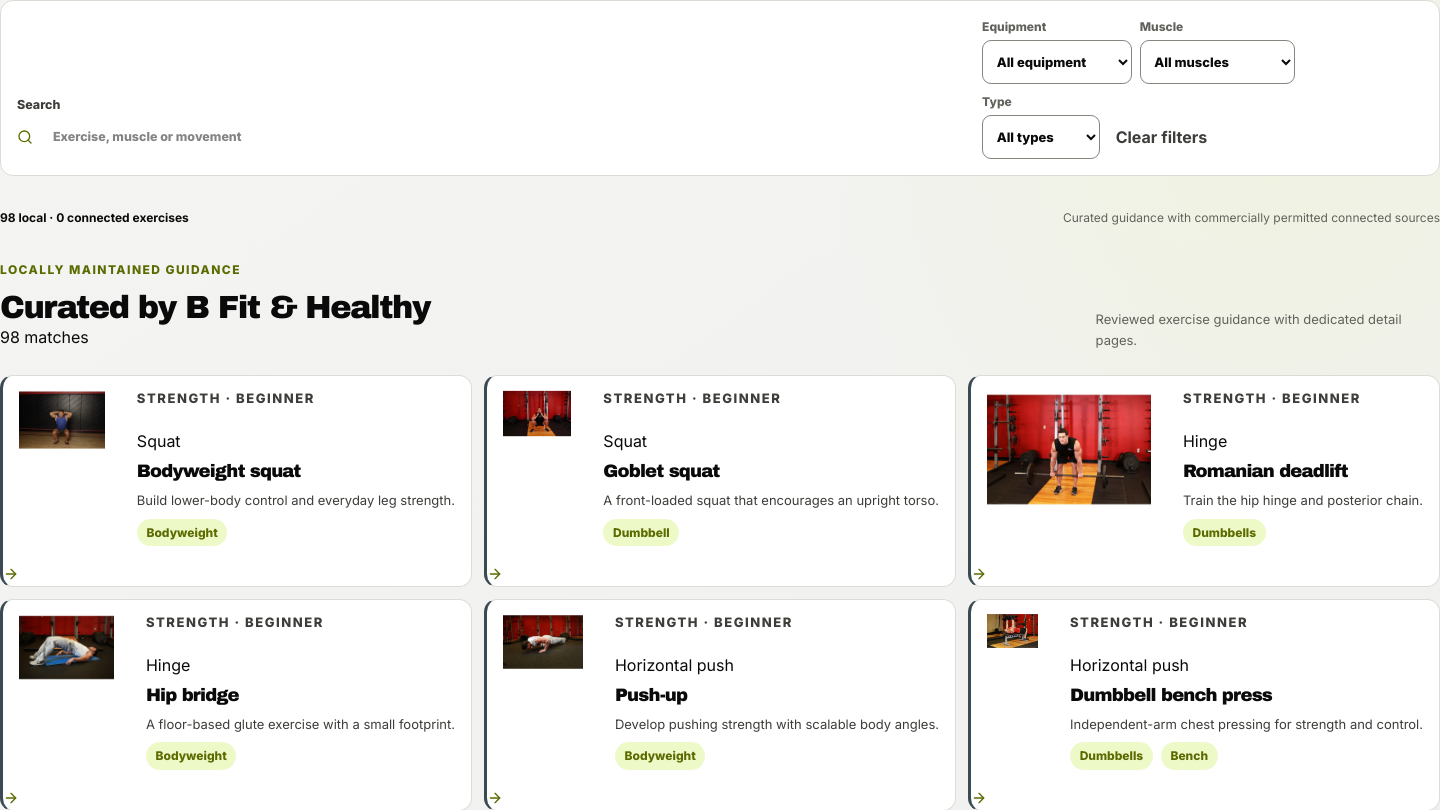
Test: ExerciseLibrary › searches, filters, clears, and explains empty results
The image size is (1440, 810).
Type "squat" into the search field at (506, 137), box top-left (41, 115), bottom-right (970, 159)
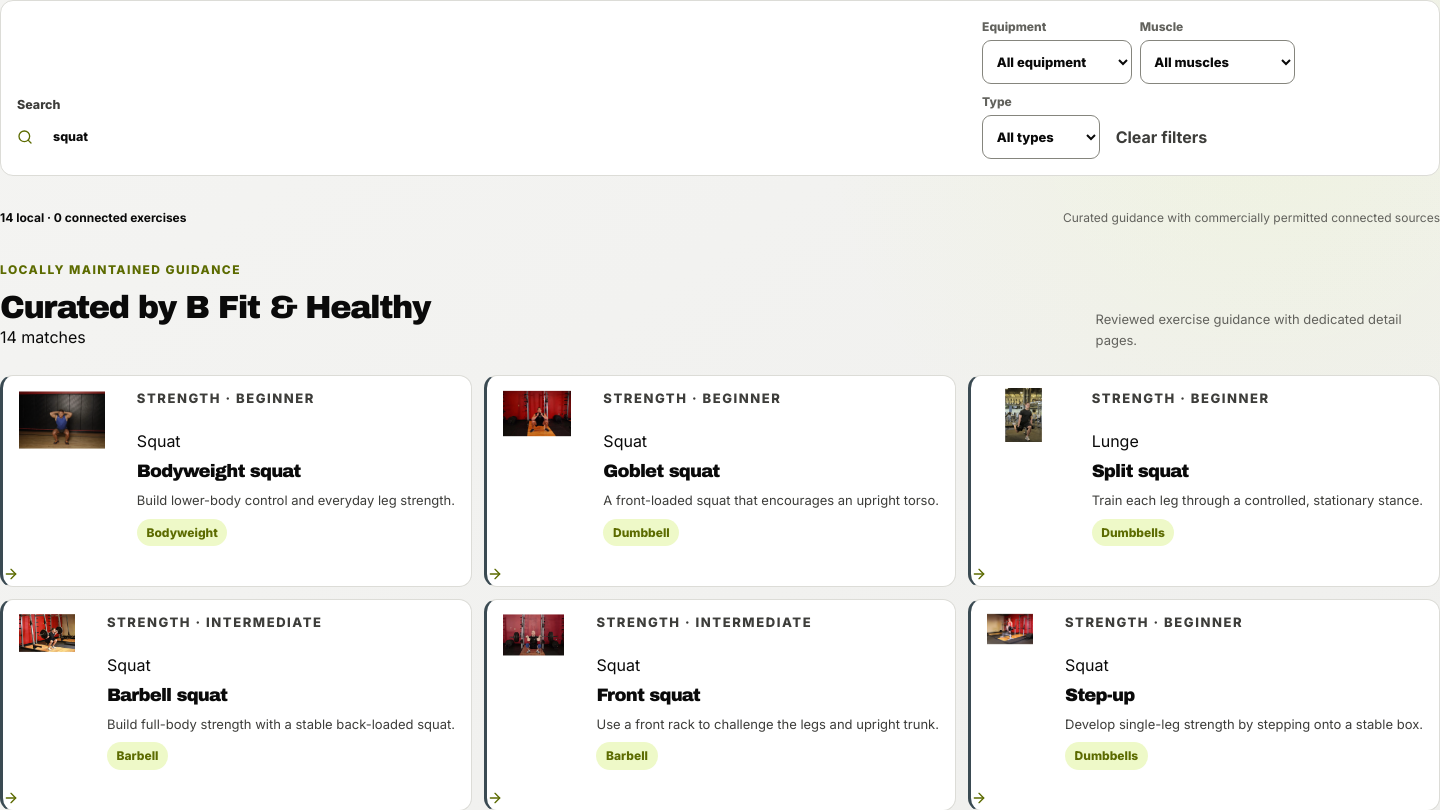
Expected: the heading "Bodyweight squat" is shown, top-left (137, 461), bottom-right (300, 481)
Expected: the link "Push-up" is gone
Select "Cable" in the dropdown labelled "Equipment" at (1057, 62), box top-left (982, 40), bottom-right (1132, 84)
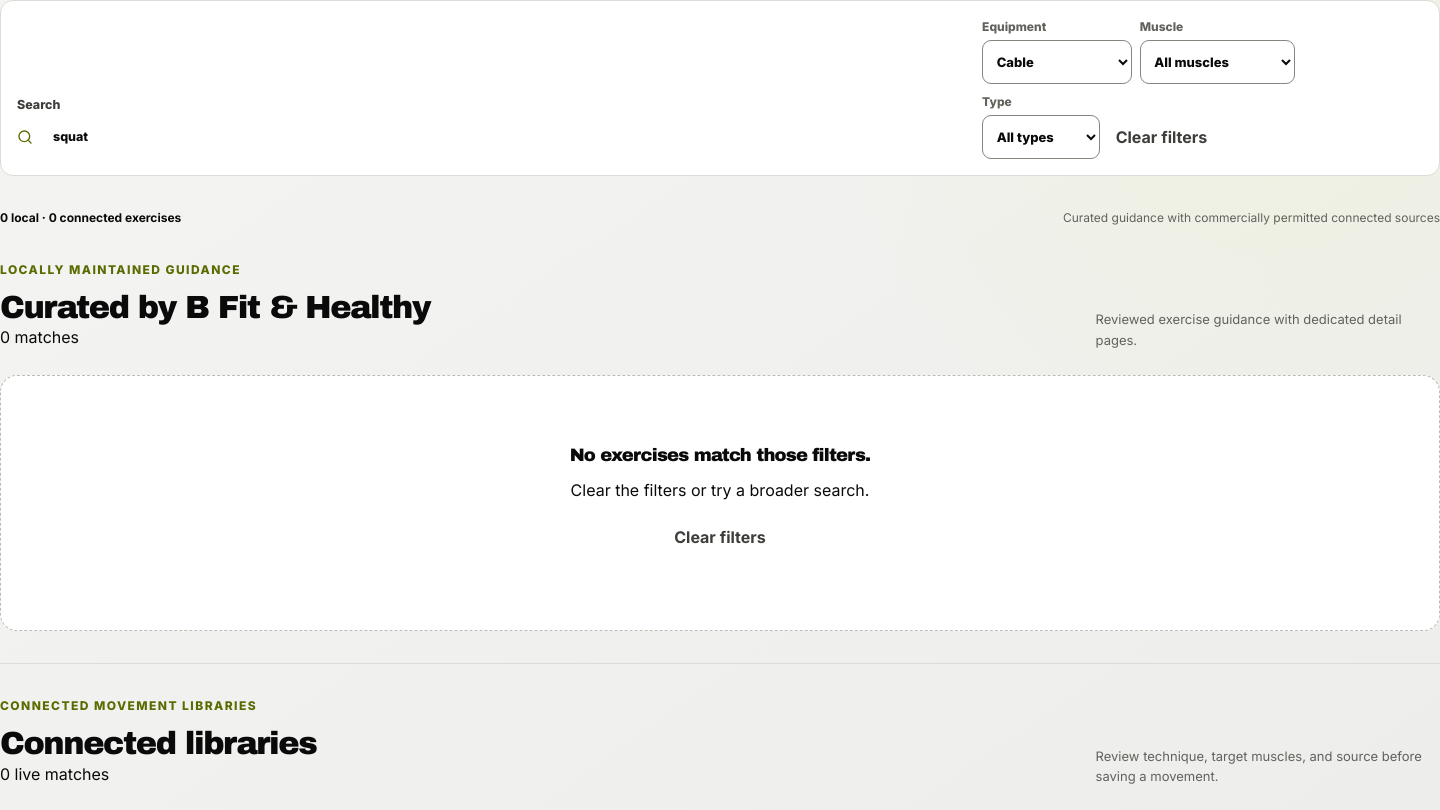
Expected: the heading "No exercises match those filters." is shown, top-left (570, 446), bottom-right (870, 466)
Click the button "Clear filters" below "Type" at (1162, 137), box top-left (1108, 115), bottom-right (1215, 159)
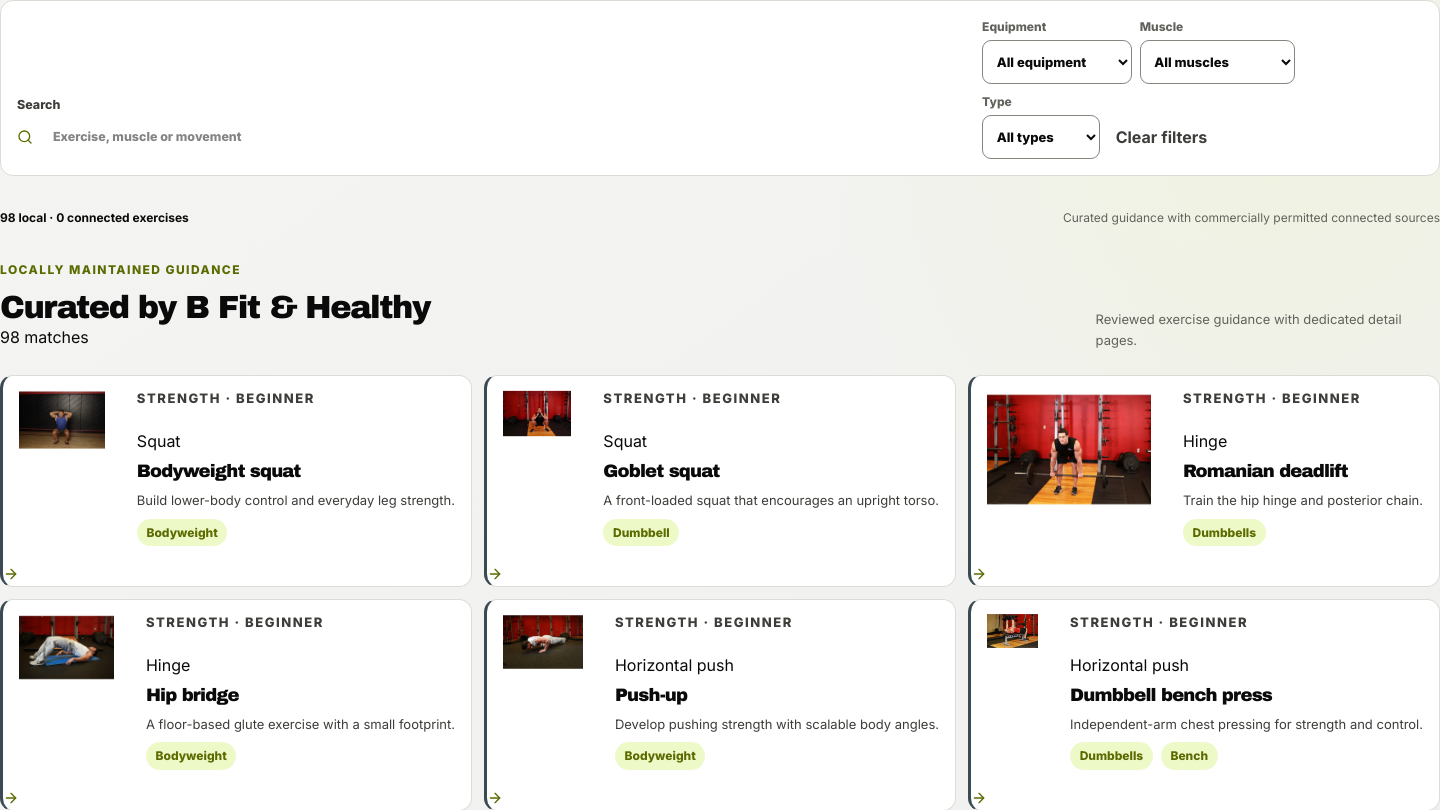
Expected: the heading "Push-up" is shown, top-left (615, 685), bottom-right (687, 705)
